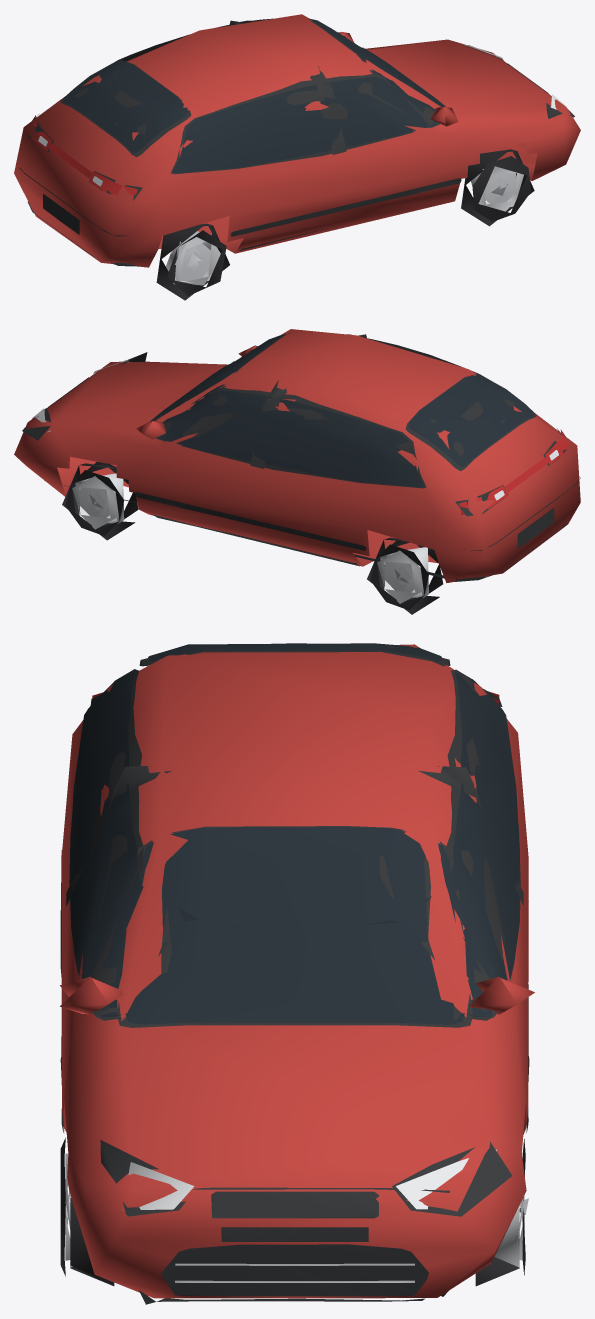
The model's file is lutece_ufar.glb.
3 renders of one model, top to bottom at view 1: azimuth 30°, elevation 25°; view 2: azimuth 150°, elevation 25°; view 3: azimuth 270°, elevation 25°, orthographic. The views are drawn at different scales.
Parts seen in each view (by area): view 1: Body, Glass-1, RearGlass, WheelRR, WheelFR, WinFrame-1, Rub-1, RgFrame, Windshield, TailLamp, Bpillar-1, PlateR (+1 smaller); view 2: Body, Glass1, RearGlass, WheelFL, WheelRL, WinFrame1, Rub1, Windshield, RgFrame, PlateR, TailLamp, Bpillar1 (+2 smaller); view 3: Body, Windshield, Glass1, Glass-1, Intake, GrilleUpper, WinFrame-1, HeadBezel, WsFrame, WinFrame1, HeadReflector, RearGlass (+9 smaller).
Part boxes in pixels (x1,y1,x2,y2): Body: [14, 14, 580, 267]; Glass-1: [173, 68, 439, 173]; RearGlass: [63, 60, 188, 152]; WheelRR: [156, 223, 229, 300]; WheelFR: [461, 149, 534, 226]; WinFrame-1: [171, 73, 441, 174]; Rub-1: [230, 178, 461, 236]; RgFrame: [60, 60, 191, 157]; Windshield: [309, 18, 445, 106]; TailLamp: [31, 115, 137, 195]; Bpillar-1: [310, 66, 346, 154]; PlateR: [43, 194, 79, 234]; Body: [14, 329, 580, 583]; Glass1: [155, 385, 423, 487]; RearGlass: [408, 374, 533, 466]; WheelFL: [62, 462, 138, 540]; WheelRL: [367, 537, 443, 614]; WinFrame1: [153, 387, 426, 488]; Rub1: [135, 492, 366, 550]; Windshield: [150, 333, 285, 421]; RgFrame: [405, 374, 536, 471]; PlateR: [517, 508, 554, 548]; TailLamp: [459, 429, 568, 514]; Bpillar1: [250, 380, 286, 468]; Body: [61, 644, 528, 1298]; Windshield: [125, 827, 464, 1024]; Glass1: [328, 672, 519, 1017]; Glass-1: [70, 672, 257, 1017]; Intake: [161, 1244, 428, 1296]; GrilleUpper: [211, 1191, 378, 1218]; WinFrame-1: [69, 669, 168, 1020]; HeadBezel: [100, 1140, 512, 1216]; WsFrame: [117, 826, 472, 1027]; WinFrame1: [389, 669, 520, 1020]; HeadReflector: [122, 1149, 496, 1210]; RearGlass: [148, 643, 441, 661].
Bounding box in the file's own units: 4.04 × 1.46 × 1.75.
